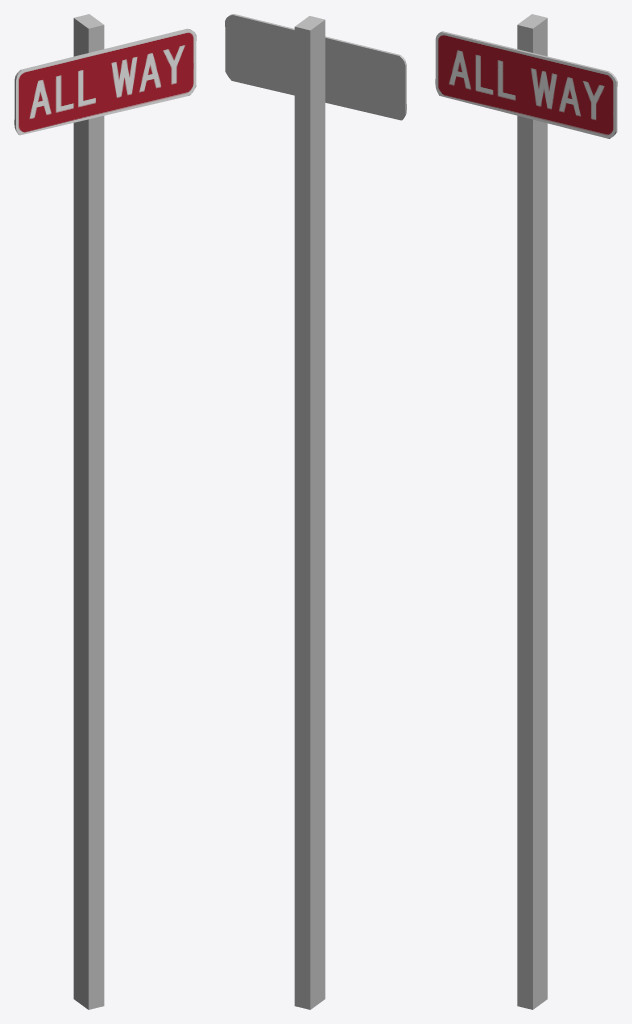
The model's file is SM_warning_sign_07.fbx.
3 views of the same model, side by side, from view 1: azimuth 30°, elevation 25°; view 2: azimuth 150°, elevation 25°; view 3: azimuth 330°, elevation 25° (orthographic).
Visible parts, largest first — view 1: warning_sign_07; view 2: warning_sign_07; view 3: warning_sign_07.
Part boxes in pixels (left/top/right/bottom): warning_sign_07: left=14, top=14, right=196, bottom=1009; warning_sign_07: left=225, top=14, right=406, bottom=1009; warning_sign_07: left=435, top=14, right=617, bottom=1009.
Size of the model in its own units: 56.14 by 291 by 10.43.
